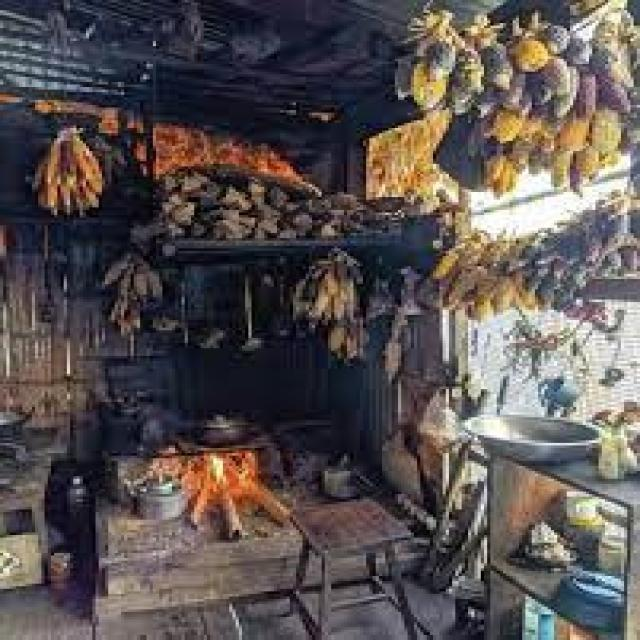fire: (191, 450, 257, 498)
